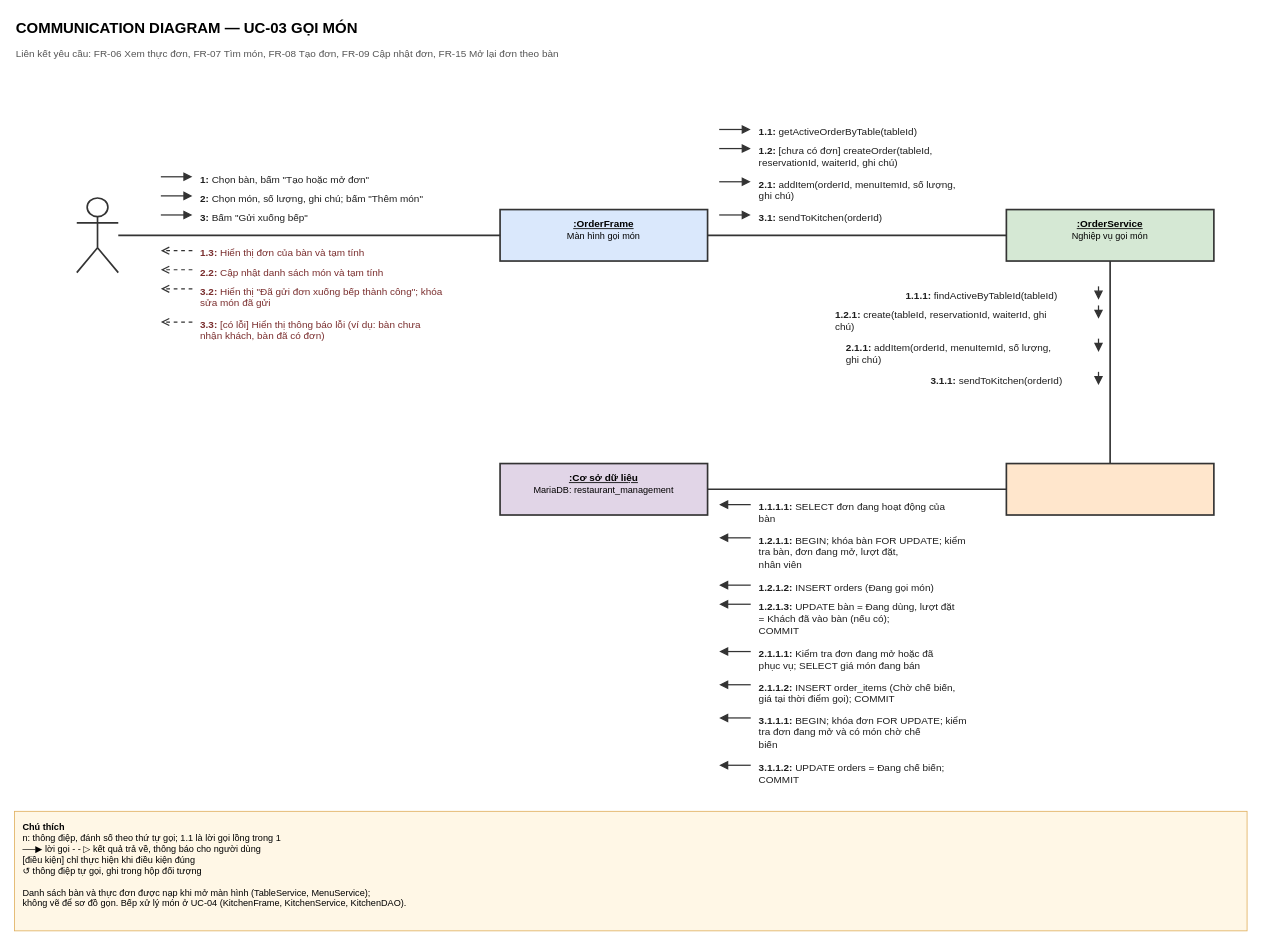
The diagram is 1262 pixels wide and 945 high, and some of its shapes have lost their labels. The centre of each missing label's shape, as x and y in pixels:
:OrderDAO Truy cập dữ liệu: (1109,488)
Nhân viên phục vụ: (97,235)
